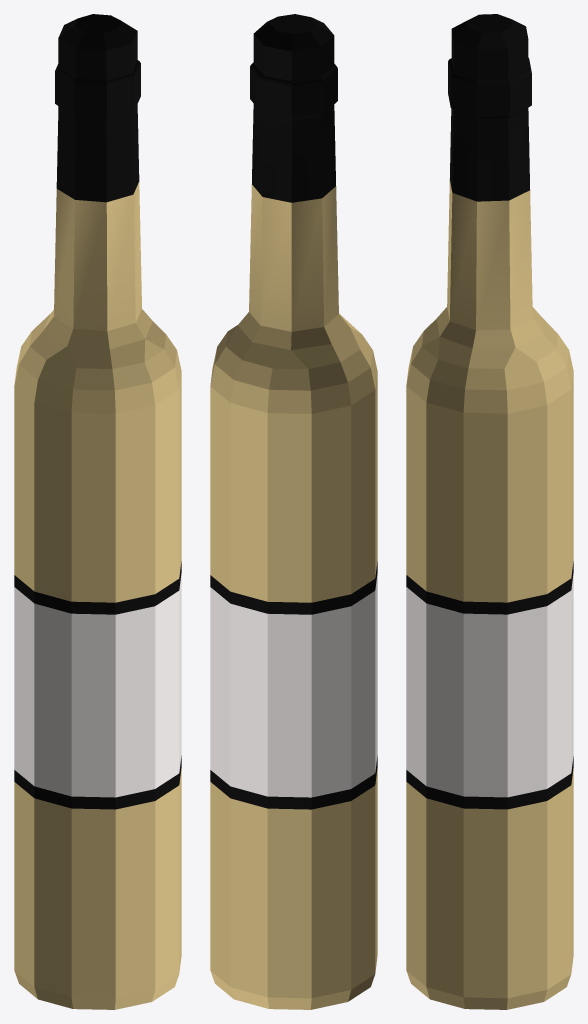
The model's file is Wine 13.fbx.
3 views of the same model, side by side, from view 1: azimuth 30°, elevation 25°; view 2: azimuth 150°, elevation 25°; view 3: azimuth 270°, elevation 25° (orthographic).
Visible parts, largest first — view 1: Node 0; view 2: Node 0; view 3: Node 0.
Part boxes in pixels (<box>): Node 0: <box>14,14,181,1009</box>; Node 0: <box>210,14,377,1009</box>; Node 0: <box>406,14,573,1009</box>.
Size of the model in its own units: 0.047 by 0.295 by 0.047.
